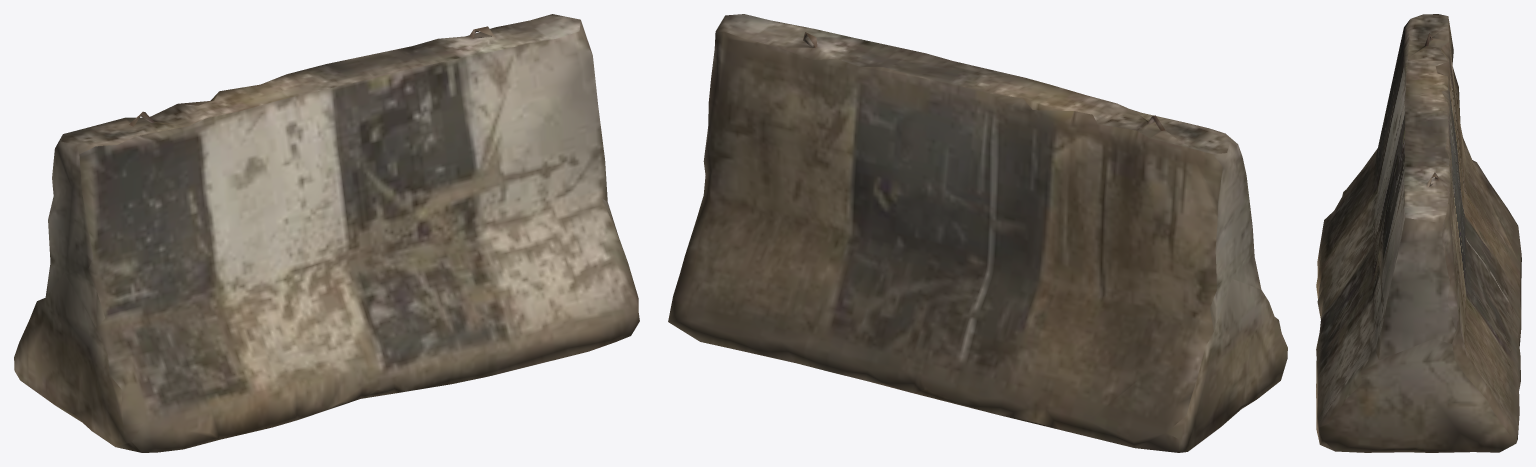
Rendered from barrier_concrete_lod1.glb.
3 views of the same model, side by side, from view 1: azimuth 30°, elevation 25°; view 2: azimuth 150°, elevation 25°; view 3: azimuth 270°, elevation 25° (orthographic). The views are drawn at different scales.
Visible parts, largest first — view 1: barrier_concrete.001; view 2: barrier_concrete.001; view 3: barrier_concrete.001.
Boxes of the visible parts, bbox=[...] form: barrier_concrete.001: bbox=[14, 14, 639, 452]; barrier_concrete.001: bbox=[668, 14, 1287, 452]; barrier_concrete.001: bbox=[1316, 14, 1521, 452].
Size of the model in its own units: 1.54 by 0.8156 by 0.6306.
Materials: 1 (1 with a texture image).
